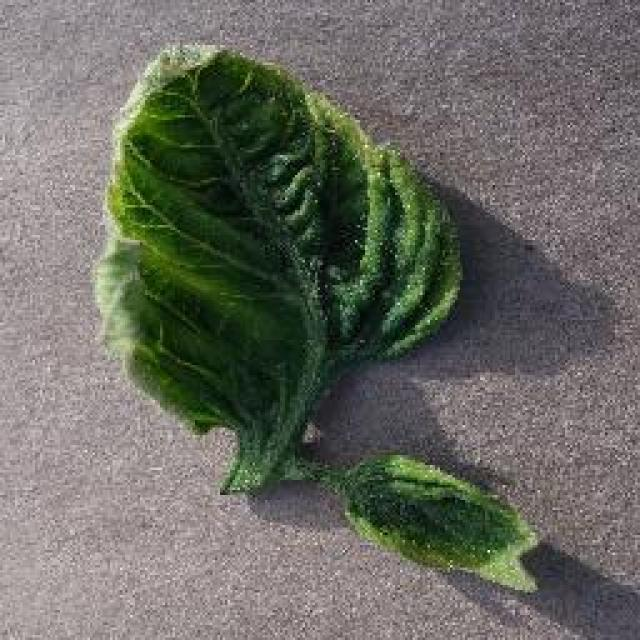Tomato yellow virus leaf: (90, 36, 463, 428), (343, 448, 540, 597)
